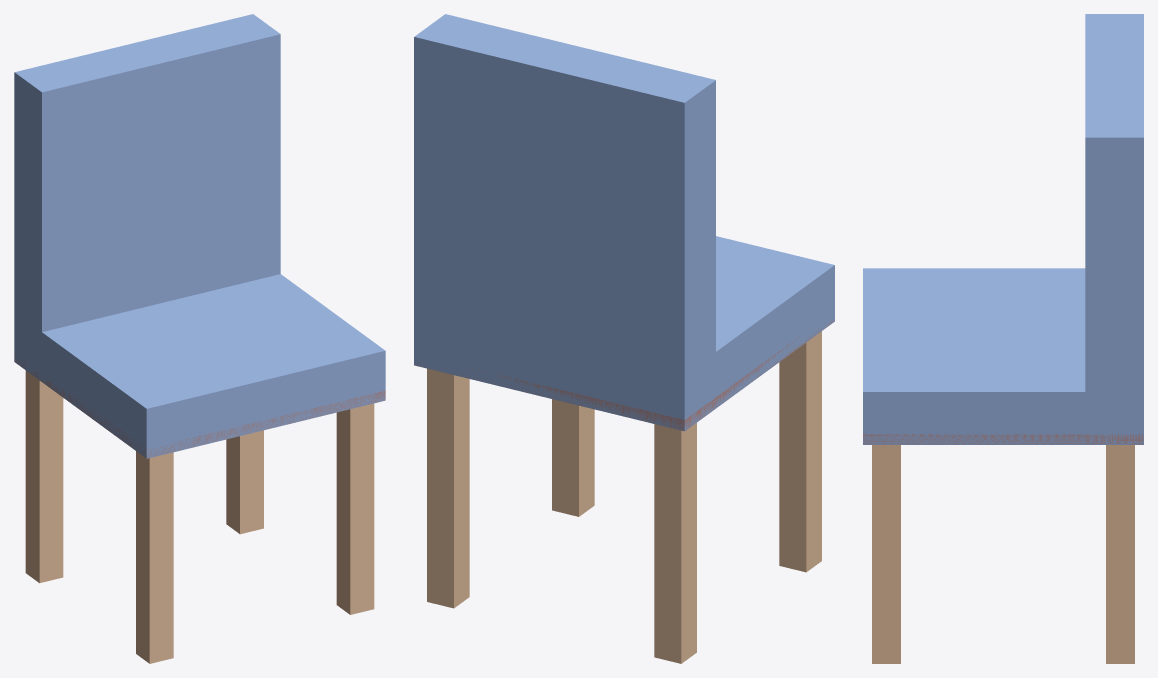
Rendered from chairParsons.glb.
3 views of the same model, side by side, from view 1: azimuth 30°, elevation 25°; view 2: azimuth 150°, elevation 25°; view 3: azimuth 270°, elevation 25° (orthographic). The views are drawn at different scales.
Parts seen in each view (by area): view 1: chairParsons; view 2: chairParsons; view 3: chairParsons.
Boxes of the visible parts, x1,y1,x2,y2 form: chairParsons: (14, 14, 385, 663); chairParsons: (414, 14, 834, 663); chairParsons: (863, 14, 1143, 663).
Size of the model in its own units: 0.25 by 0.5 by 0.24.
